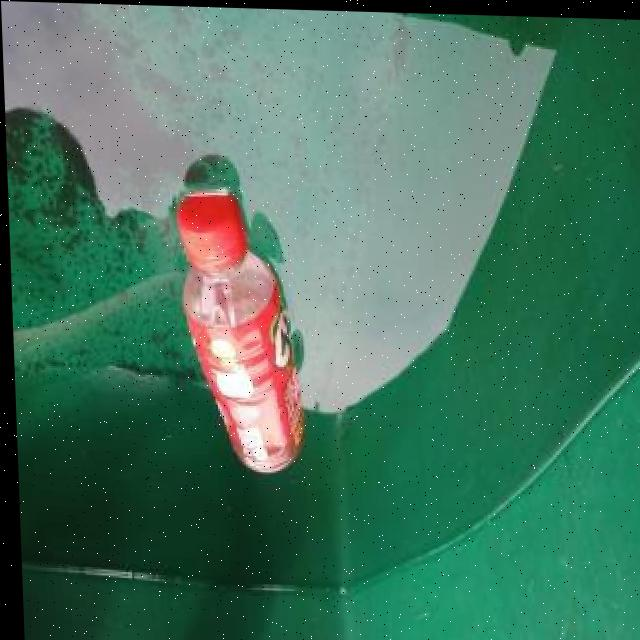bottle: (172, 189, 305, 478)
